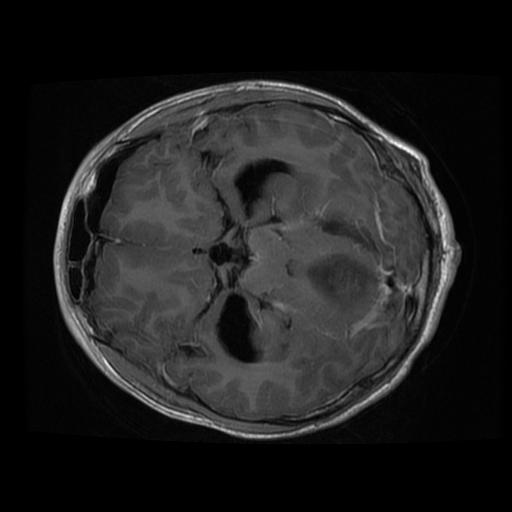glioma: (304, 252, 376, 313)
